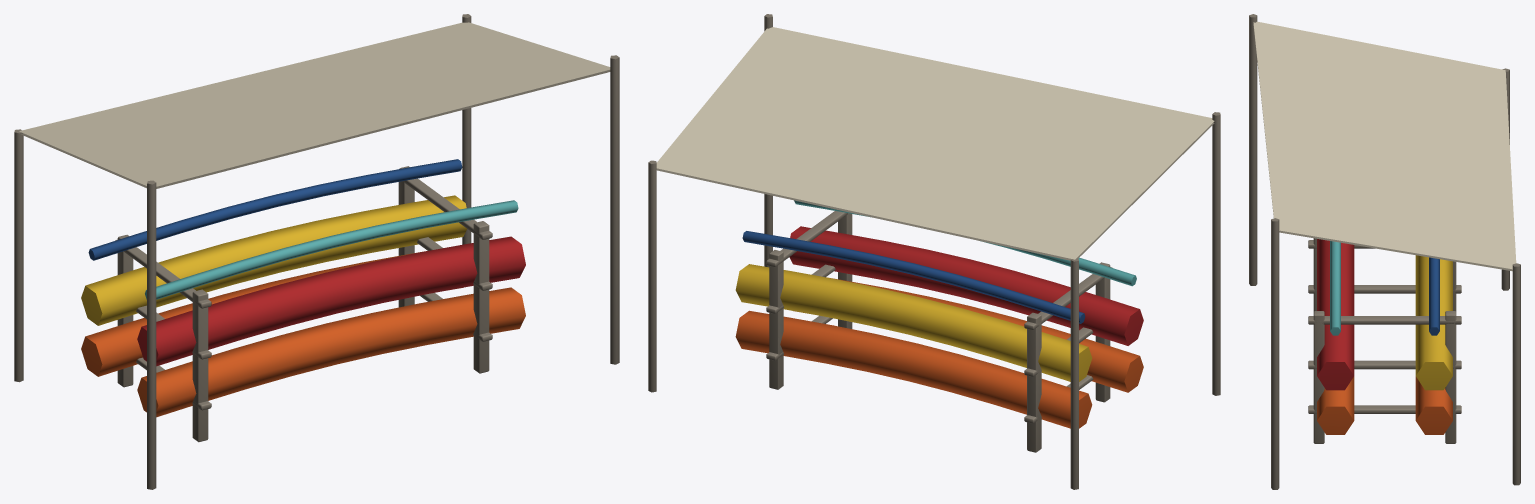
File: KayakRackFL.fbx
3 views of the same model, side by side, from view 1: azimuth 30°, elevation 25°; view 2: azimuth 150°, elevation 25°; view 3: azimuth 270°, elevation 25° (orthographic). The views are drawn at different scales.
Visible parts, largest first — view 1: KayakRackFL; view 2: KayakRackFL; view 3: KayakRackFL.
Part boxes in pixels (x1,y1,x2,y2): KayakRackFL: (14, 14, 619, 489); KayakRackFL: (648, 14, 1220, 489); KayakRackFL: (1249, 14, 1520, 489).
Bounding box in the file's own units: 4.47 × 2.7 × 2.48.
